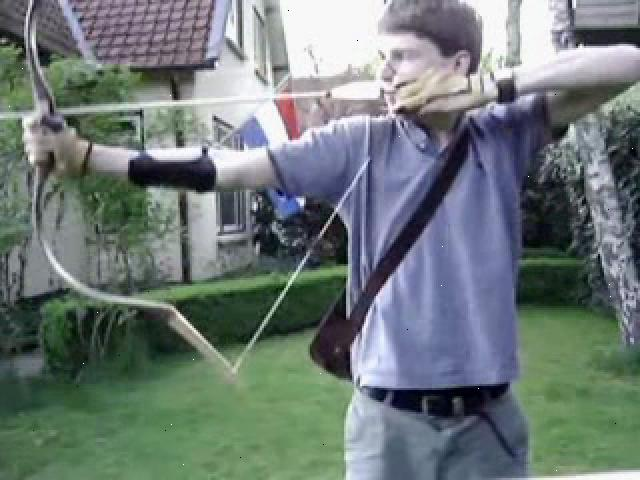P: (22, 8, 633, 476)
